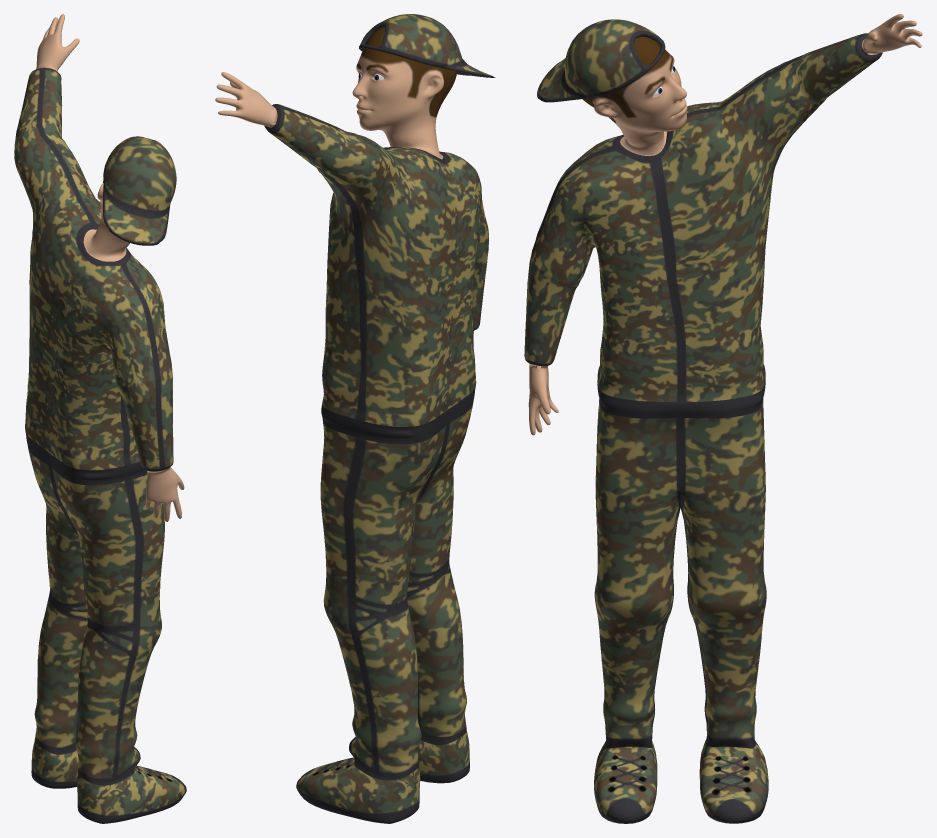
File: SkinCamuflaje_PoseVictoria.fbx
The picture shows the model from 3 angles, left to right: view 1: azimuth 30°, elevation 25°; view 2: azimuth 150°, elevation 25°; view 3: azimuth 270°, elevation 25°; orthographic projection. The views are drawn at different scales.
Parts seen in each view (by area): view 1: Cuerpo completo smooth.003; view 2: Cuerpo completo smooth.003; view 3: Cuerpo completo smooth.003.
Boxes of the visible parts, <box> form: Cuerpo completo smooth.003: <box>14,14,186,823</box>; Cuerpo completo smooth.003: <box>215,14,495,823</box>; Cuerpo completo smooth.003: <box>524,14,922,823</box>.
Size of the model in its own units: 30.58 by 174 by 77.29.
Materials: 1 (1 with a texture image).
